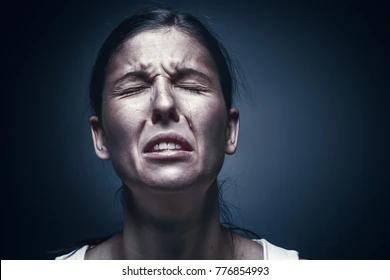pain: (108, 64, 216, 101)
